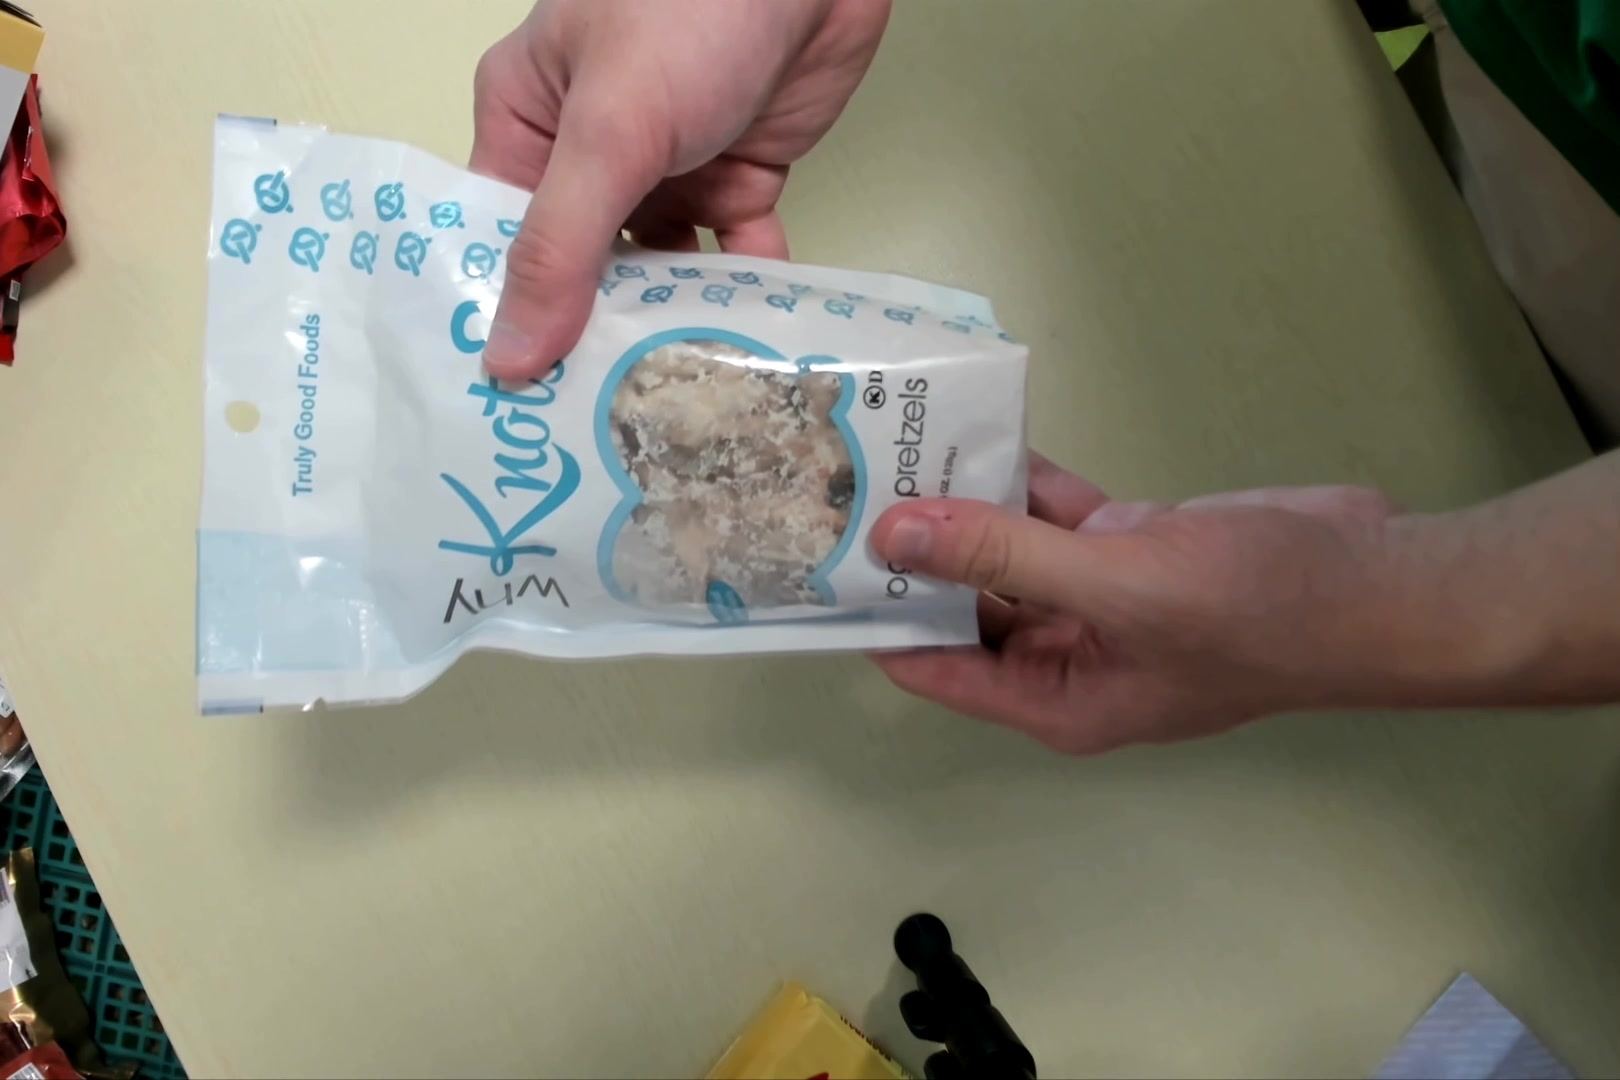SweetsChocolatesOthers_100-199g_NonHalal_NonHealthy: (200, 119, 1028, 711)
